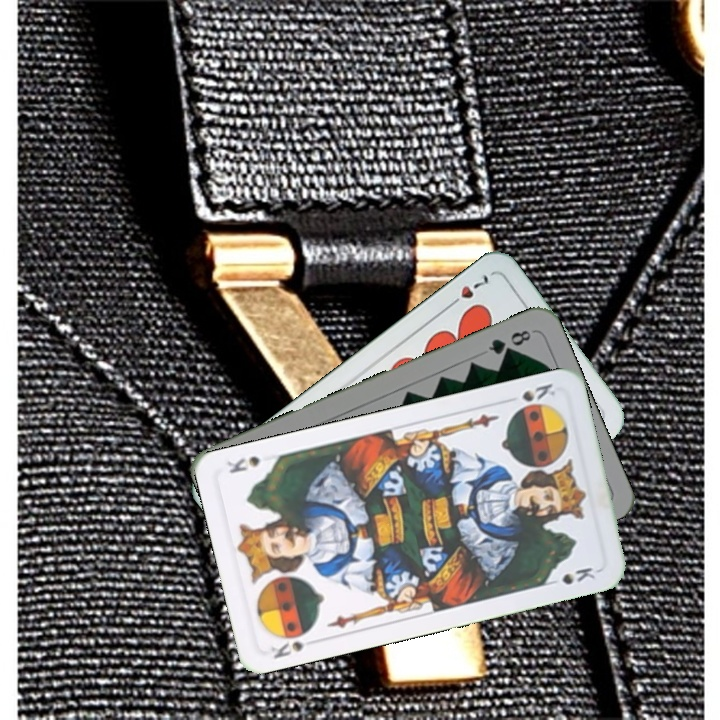G8: (484, 325, 534, 357)
H7: (443, 270, 491, 311)
SK: (267, 634, 321, 662), (517, 379, 559, 405)
